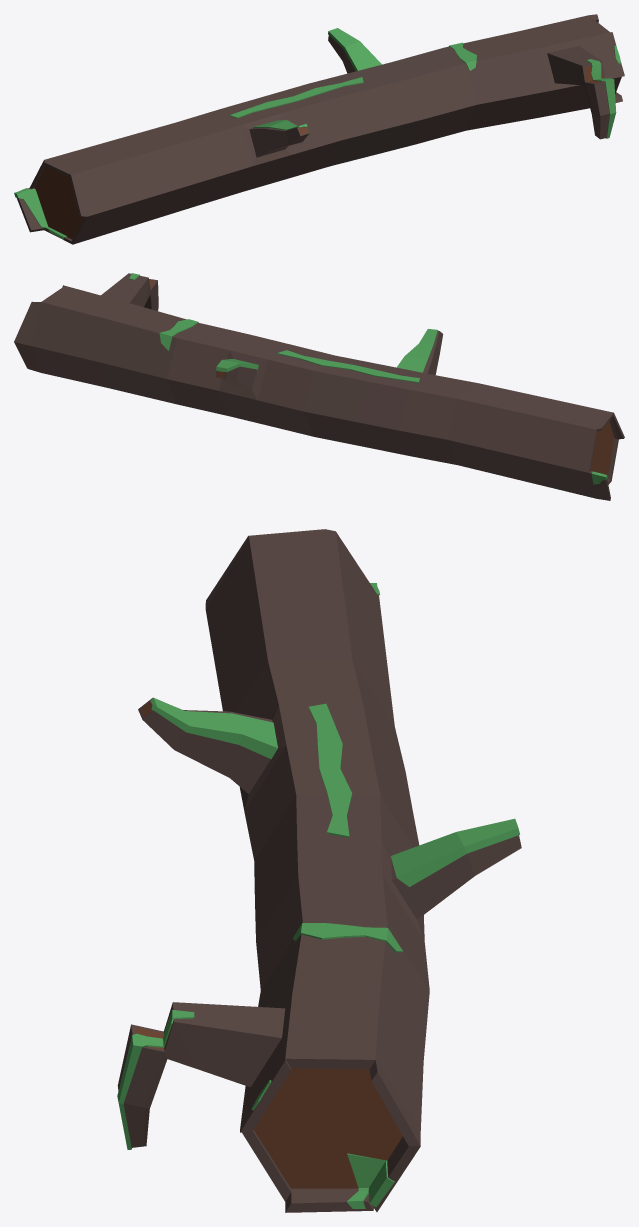
Rendered from Fallen_Tree_3-normal.fbx.
3 views of the same model, one above another, from view 1: azimuth 30°, elevation 25°; view 2: azimuth 150°, elevation 25°; view 3: azimuth 270°, elevation 25° (orthographic). The views are drawn at different scales.
Visible parts, largest first — view 1: Tree.001, Moss; view 2: Tree.001, Moss; view 3: Tree.001, Moss.
Part boxes in pixels (x1,y1,x2,y2): Tree.001: [17, 14, 624, 244]; Moss: [14, 28, 620, 239]; Tree.001: [14, 273, 624, 500]; Moss: [129, 273, 607, 484]; Tree.001: [117, 529, 521, 1212]; Moss: [117, 583, 519, 1208].
Bounding box in the file's own units: 742 × 105 × 224.
